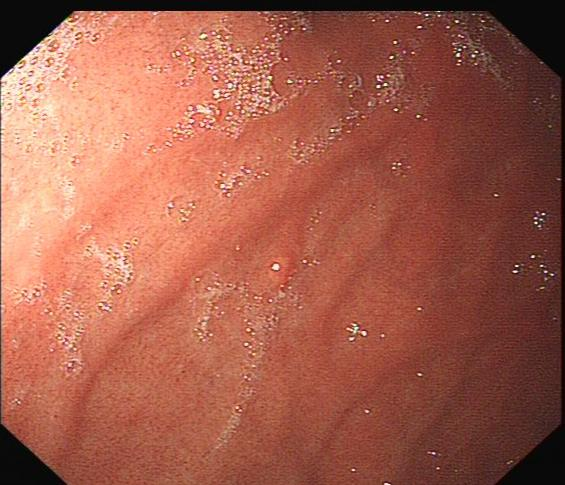Polyp: (254, 230, 321, 295)
